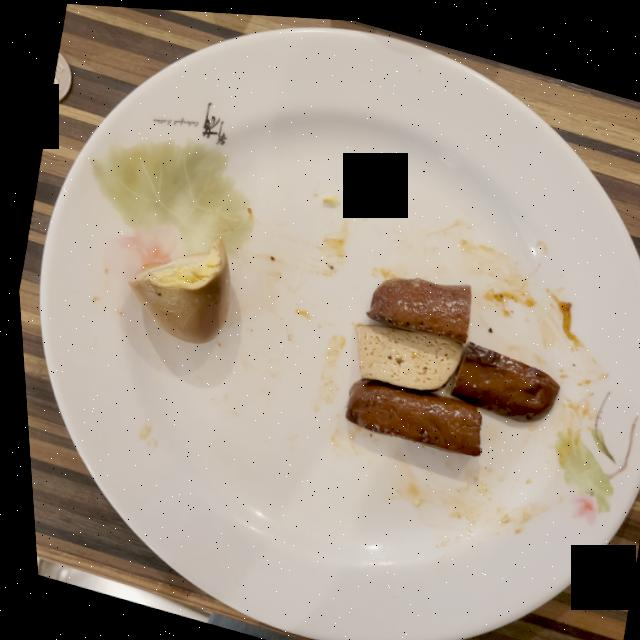coin: (47, 51, 69, 103)
firm tofu: (339, 273, 553, 451)
soy egg: (124, 236, 225, 342)
